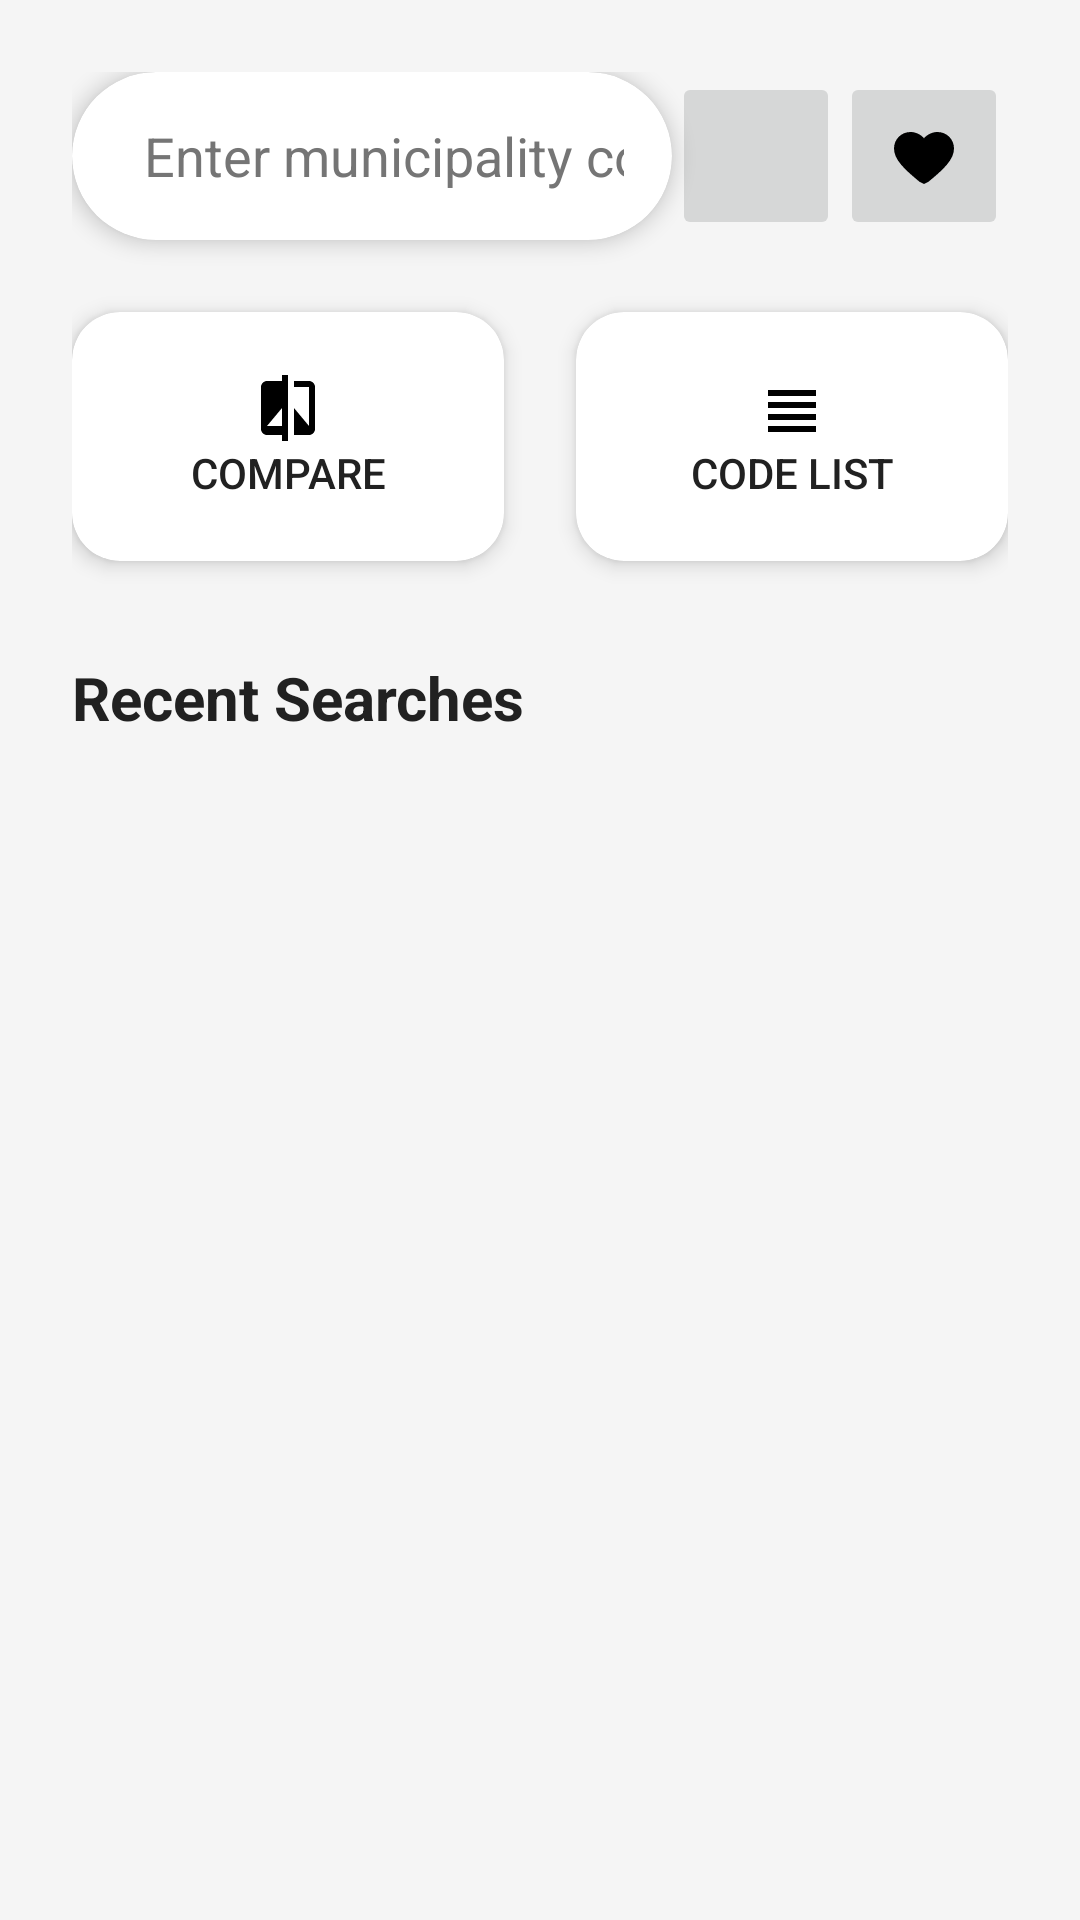

Named icons in this screenshot (1080*1920) and their centers, [x,y]:
Add to Favorites: [924,156]
